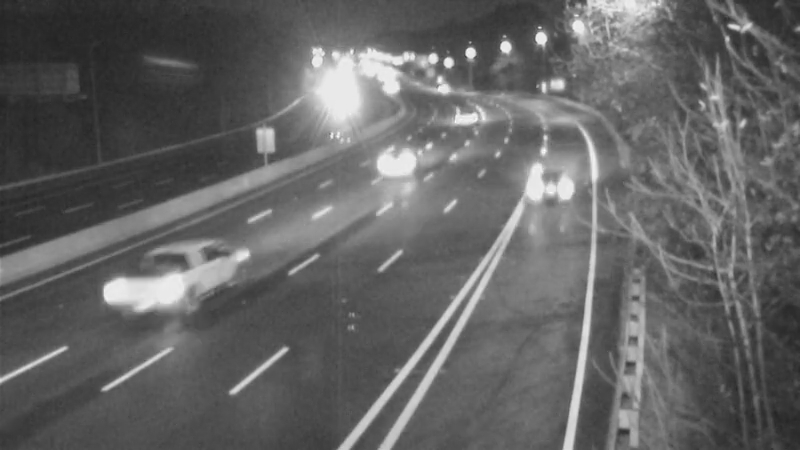vehicle: (512, 153, 592, 233), (365, 118, 445, 198), (109, 252, 189, 332), (434, 92, 484, 142)
